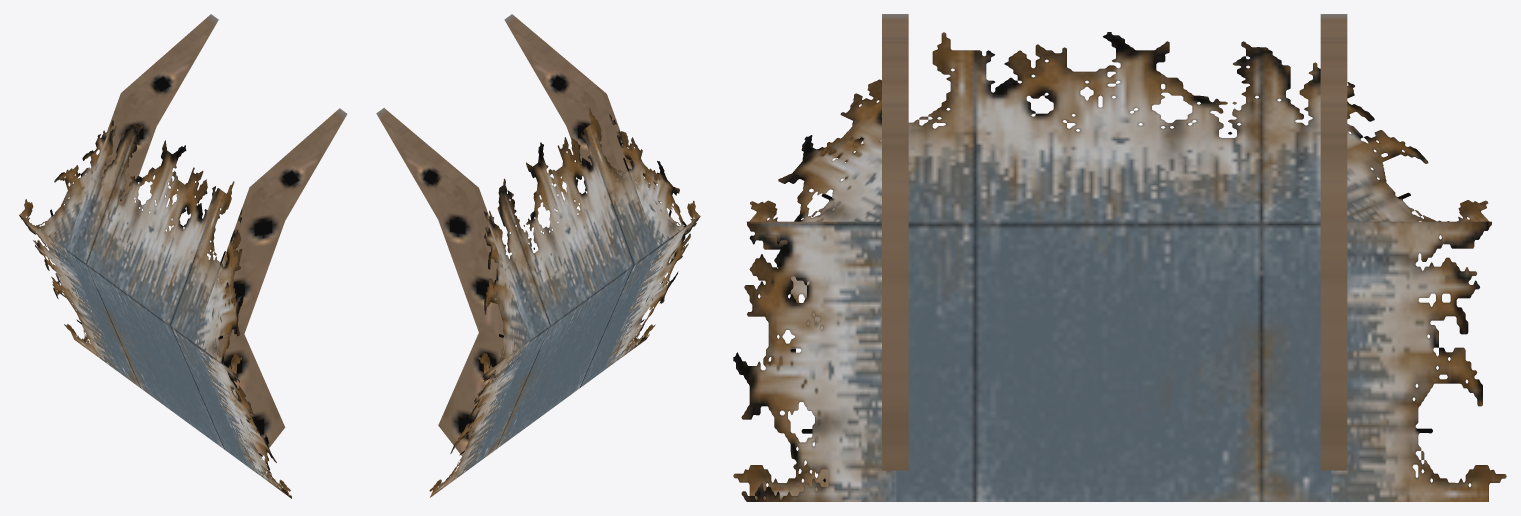
The model's file is crashrib.glb.
3 views of the same model, side by side, from view 1: azimuth 30°, elevation 25°; view 2: azimuth 150°, elevation 25°; view 3: azimuth 270°, elevation 25° (orthographic). The views are drawn at different scales.
Visible parts, largest first — view 1: Crash Rib; view 2: Crash Rib; view 3: Crash Rib.
Boxes of the visible parts, box(x1,y1,x2,y2) form: Crash Rib: box(19, 14, 347, 498); Crash Rib: box(376, 14, 700, 497); Crash Rib: box(733, 14, 1506, 501).
Bounding box in the file's own units: 8.01 × 17 × 21.01.
2 materials, 2 textured.
